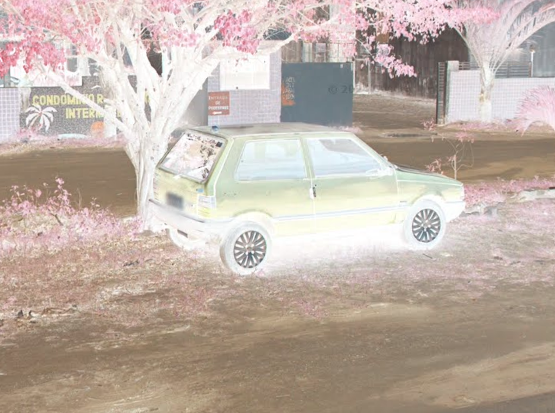car: (143, 122, 467, 277)
